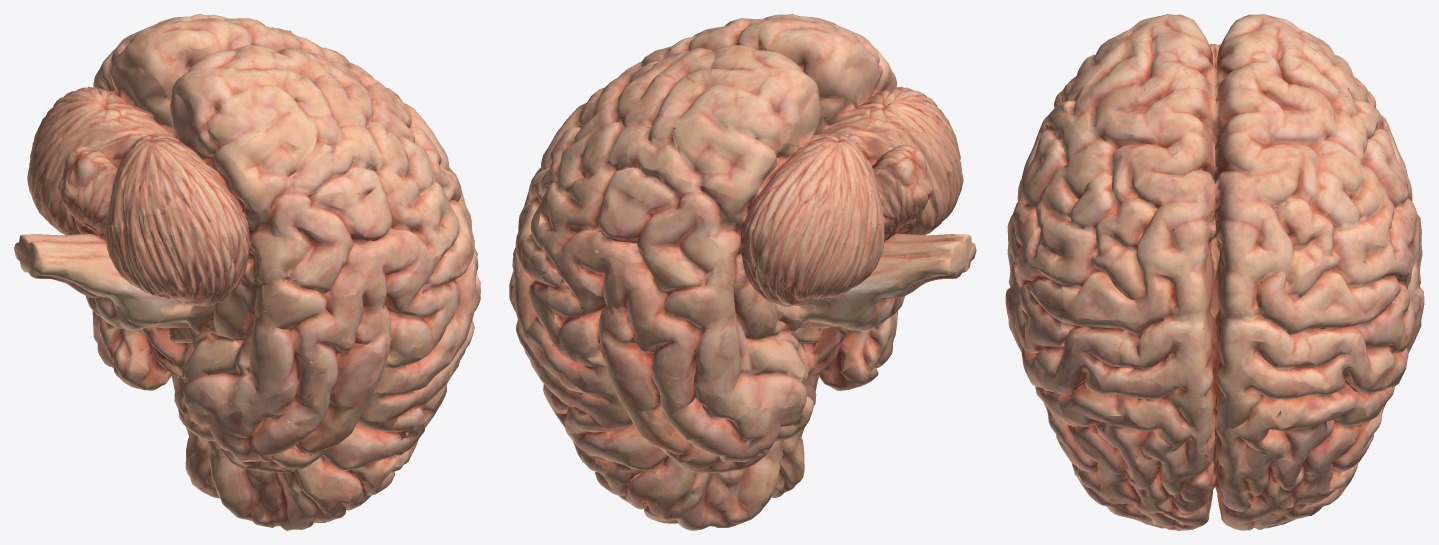
The model's file is brain.glb.
The picture shows the model from 3 angles, left to right: view 1: azimuth 30°, elevation 25°; view 2: azimuth 150°, elevation 25°; view 3: azimuth 270°, elevation 25°; orthographic projection. The views are drawn at different scales.
Visible parts, largest first — view 1: human-brain; view 2: human-brain; view 3: human-brain.
Part boxes in pixels (x1=…): human-brain: x1=14, y1=14, x2=480, y2=530; human-brain: x1=509, y1=14, x2=976, y2=530; human-brain: x1=1005, y1=14, x2=1424, y2=530.
Size of the model in its own units: 1.15 by 1.26 by 1.02.
1 material, 1 textured.
